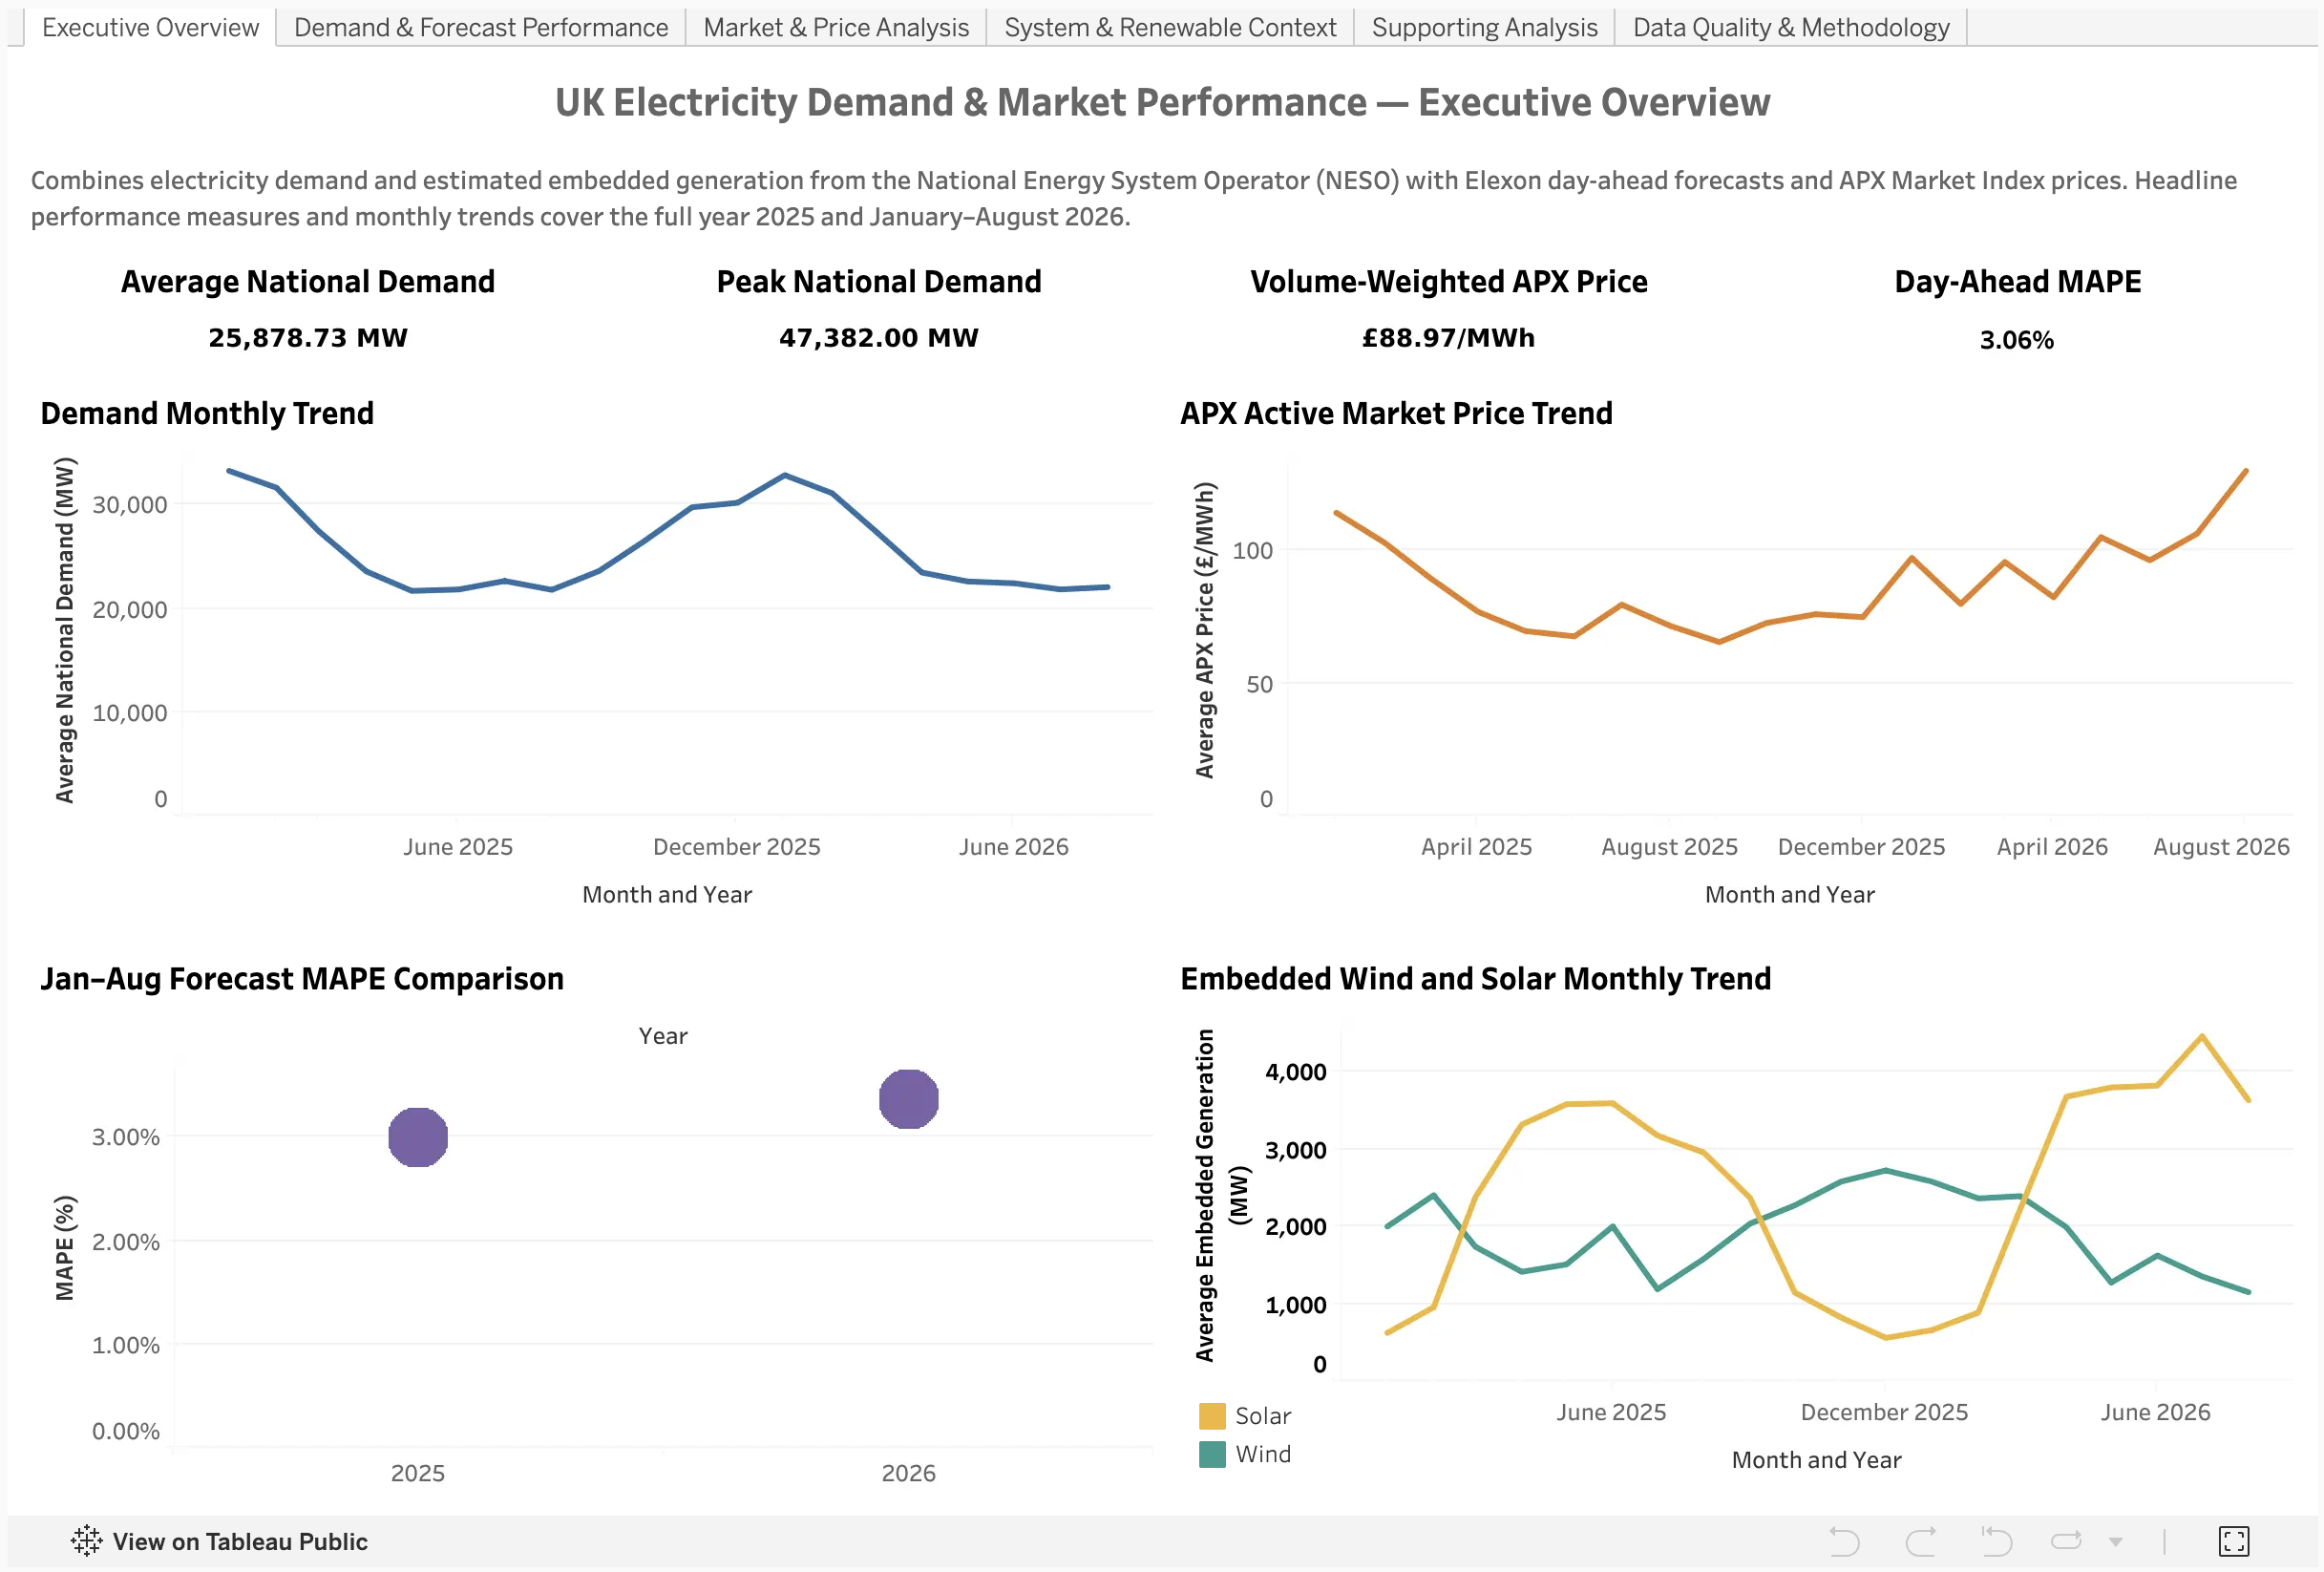

What the dashboard file says about the page in this screenshot:
{"tool":"tableau","page":{"name":"Executive Overview","canvas":[1210,766],"ordinal":2},"visuals":[{"type":"text","box":[8,8,1194,90]},{"type":"worksheet","title":"KPI - Average National Demand","mark":"Text","box":[8,98,299,68]},{"type":"worksheet","title":"KPI - Peak National Demand","mark":"Automatic","box":[307,98,299,68]},{"type":"worksheet","title":"KPI - Volume-Weighted APX Price","mark":"Automatic","box":[606,98,298,68]},{"type":"worksheet","title":"KPI - Day-Ahead MAPE","mark":"Automatic","box":[904,98,298,68]},{"type":"worksheet","title":"Demand Monthly Trend","mark":"Automatic","rows":["Calculation_0116049546895360"],"cols":["Date"],"box":[8,166,597,296]},{"type":"worksheet","title":"APX Active Market Price Trend","mark":"Line","rows":["Calculation_0116049558306826"],"cols":["Date"],"box":[605,166,597,296]},{"type":"worksheet","title":"Jan–Aug Forecast MAPE Comparison","mark":"Circle","cols":["Year"],"box":[8,462,597,296]},{"type":"worksheet","title":"Embedded Wind and Solar Monthly Trend","mark":"Line","cols":["Date"],"box":[605,462,597,296]},{"type":"legend","title":"Embedded Wind and Solar Monthly Trend","param":"[federated.0zwrc231uzmggw16olpc30e5ogru (copy 2)].[:Measure Names]","box":[621,705,65,47]}]}

Visuals, with their boxes on the page's 1210x766 design canvas (x1, y1, x2, y2). These are canvas units, not pixel positions in the 2324x1572 screenshot, which may show the page scaled, cropped or inside an application window:
text: 8, 8, 1202, 98
"KPI - Average National Demand" worksheet (Text marks): 8, 98, 307, 166
"KPI - Peak National Demand" worksheet: 307, 98, 606, 166
"KPI - Volume-Weighted APX Price" worksheet: 606, 98, 904, 166
"KPI - Day-Ahead MAPE" worksheet: 904, 98, 1202, 166
"Demand Monthly Trend" worksheet: 8, 166, 605, 462
"APX Active Market Price Trend" worksheet (Line marks): 605, 166, 1202, 462
"Jan–Aug Forecast MAPE Comparison" worksheet (Circle marks): 8, 462, 605, 758
"Embedded Wind and Solar Monthly Trend" worksheet (Line marks): 605, 462, 1202, 758
"Embedded Wind and Solar Monthly Trend" legend: 621, 705, 686, 752
